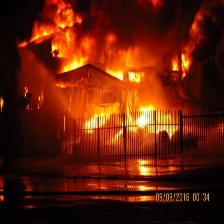fire: (31, 8, 199, 144)
